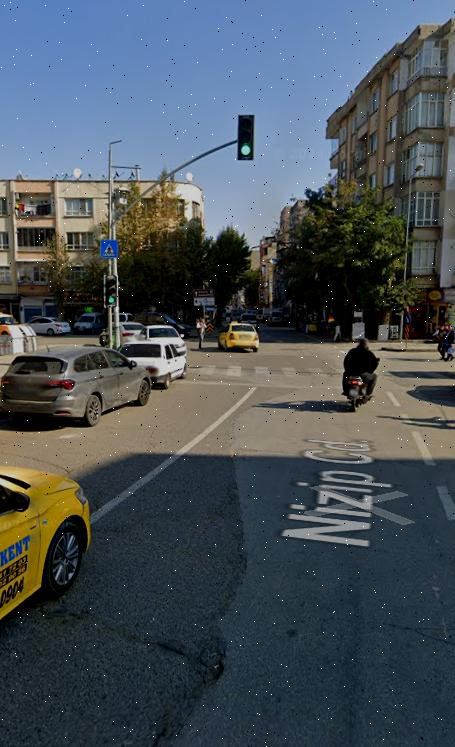greenlight: (239, 115, 253, 160), (106, 276, 116, 304)
